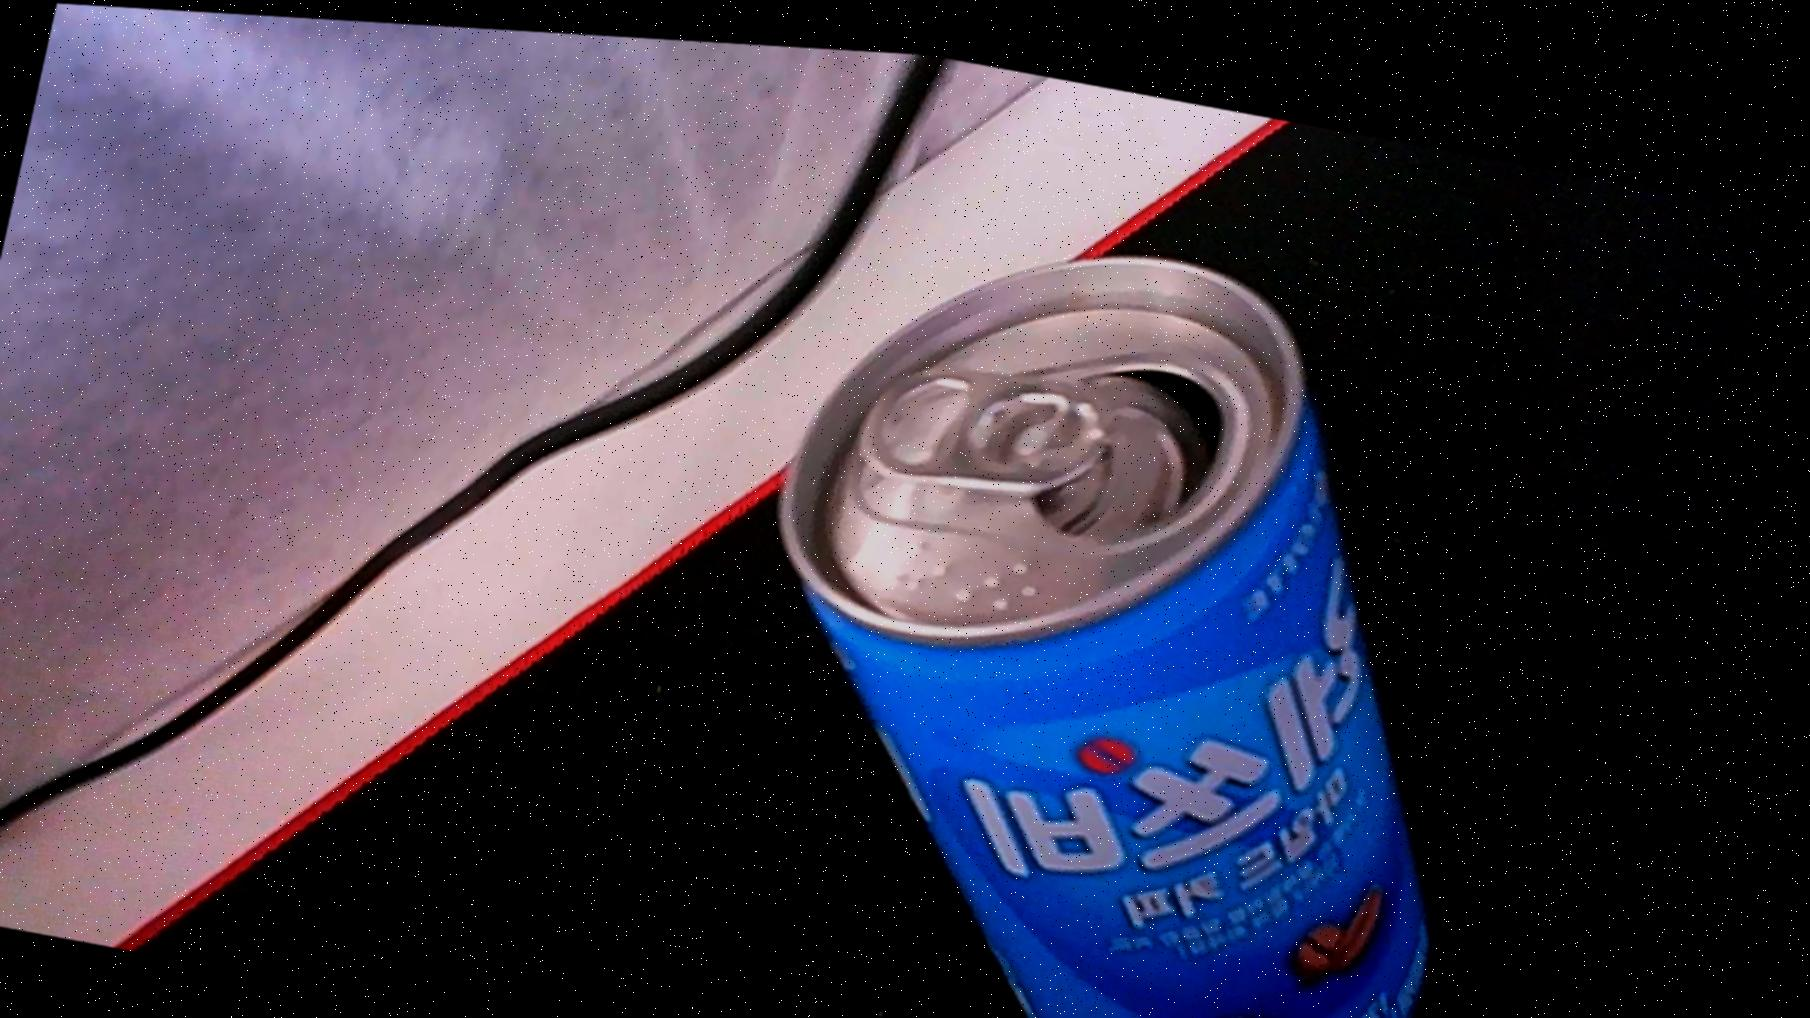letsbe: (671, 179, 1581, 1018)
